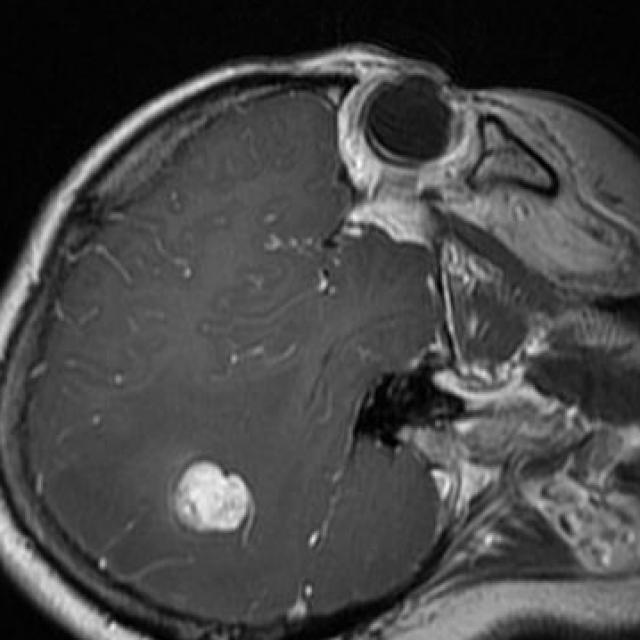glioma: (173, 462, 250, 535)
